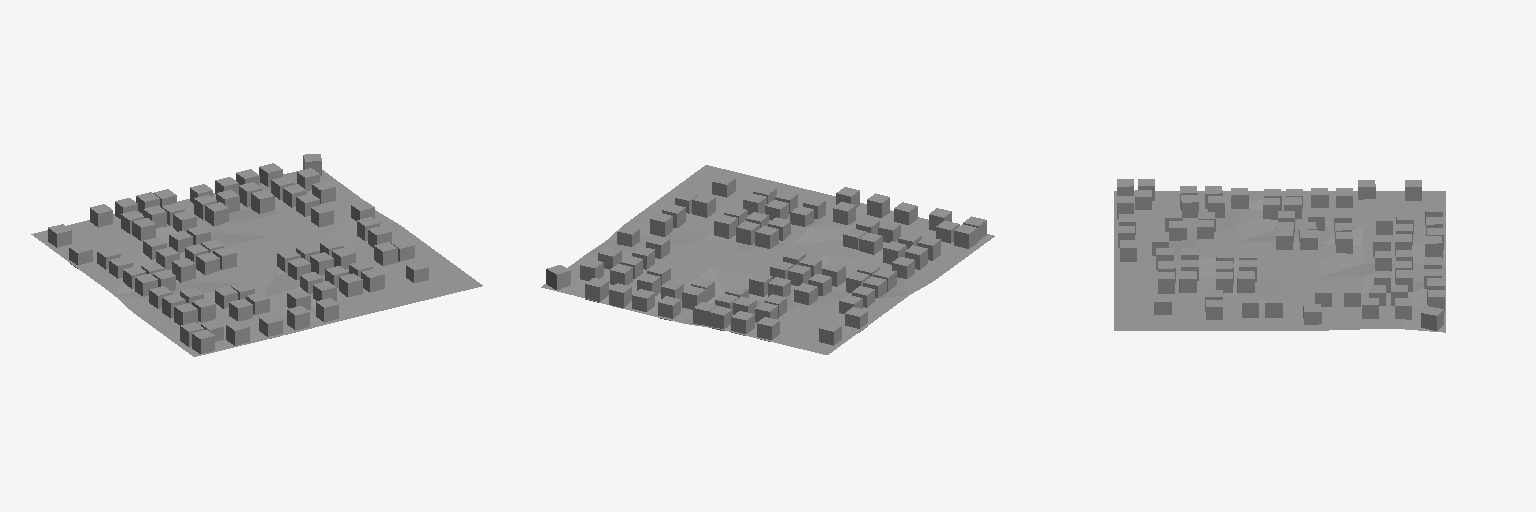
Rendered from city.obj.
3 renders of one model, left to right at view 1: azimuth 30°, elevation 25°; view 2: azimuth 150°, elevation 25°; view 3: azimuth 270°, elevation 25°, orthographic.
Parts seen in each view (by area): view 1: Plane; view 2: Plane; view 3: Plane.
Boxes of the visible parts, x1,y1,x2,y2 form: Plane: [31, 170, 482, 356]; Plane: [541, 165, 994, 354]; Plane: [1114, 191, 1445, 332].
Bounding box in the file's own units: 7.73 × 0.5036 × 7.66.